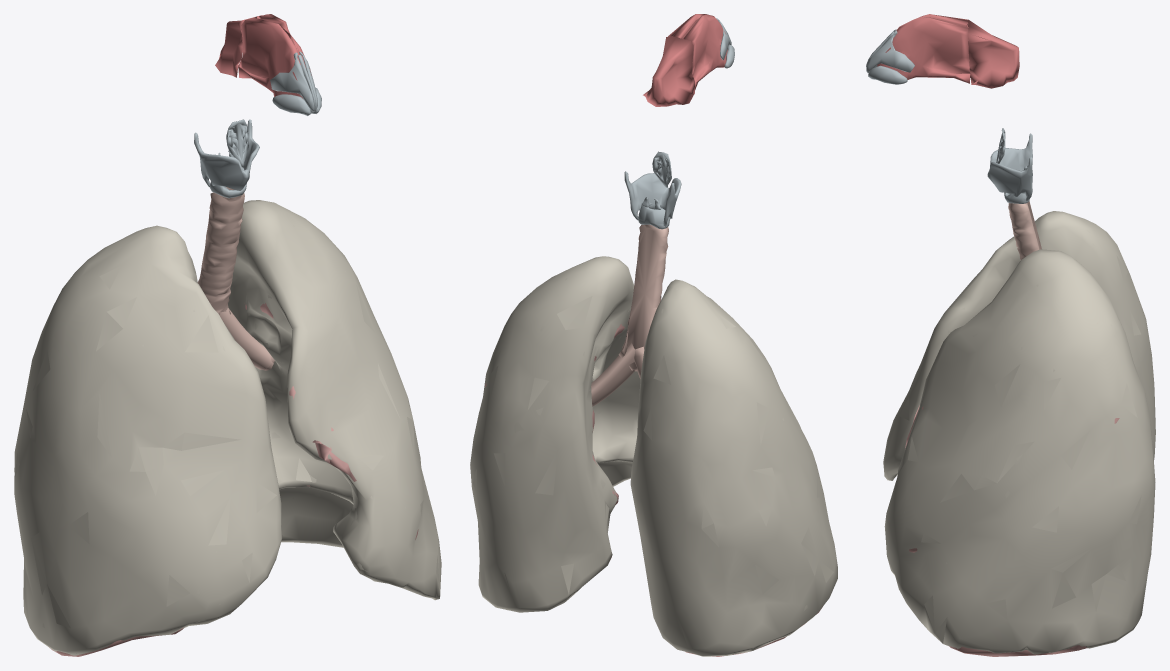
Rendered from adult_male.respiratory.LOD2.glb.
3 views of the same model, side by side, from view 1: azimuth 30°, elevation 25°; view 2: azimuth 150°, elevation 25°; view 3: azimuth 270°, elevation 25° (orthographic). The views are drawn at different scales.
Visible parts, largest first — view 1: ADULT.MALE.RESPIRATORY.PLEURA, ADULT.MALE.RESPIRATORY.TRACHEA, ADULT.MALE.RESPIRATORY.MUCOSA_OF_NASAL_CAVITY, ADULT.MALE.RESPIRATORY.THYROID_CARTILAGE, ADULT.MALE.RESPIRATORY.LEFT_MAIN_BRONCHUS, ADULT.MALE.RESPIRATORY.NASOPHARYNX, ADULT.MALE.RESPIRATORY.LATERAL_PROCESS_OF_NASAL_SEPTAL_CARTI, ADULT.MALE.RESPIRATORY.EPIGLOTTIS, ADULT.MALE.RESPIRATORY.SUPERIOR_LOBE_OF_LEFT_LUNG; view 2: ADULT.MALE.RESPIRATORY.PLEURA, ADULT.MALE.RESPIRATORY.TRACHEA, ADULT.MALE.RESPIRATORY.NASOPHARYNX, ADULT.MALE.RESPIRATORY.MUCOSA_OF_NASAL_CAVITY, ADULT.MALE.RESPIRATORY.THYROID_CARTILAGE, ADULT.MALE.RESPIRATORY.LEFT_MAIN_BRONCHUS; view 3: ADULT.MALE.RESPIRATORY.PLEURA, ADULT.MALE.RESPIRATORY.MUCOSA_OF_NASAL_CAVITY, ADULT.MALE.RESPIRATORY.NASOPHARYNX, ADULT.MALE.RESPIRATORY.THYROID_CARTILAGE, ADULT.MALE.RESPIRATORY.TRACHEA, ADULT.MALE.RESPIRATORY.LATERAL_PROCESS_OF_NASAL_SEPTAL_CARTI, ADULT.MALE.RESPIRATORY.INFERIOR_LOBE_OF_LEFT_LUNG, ADULT.MALE.RESPIRATORY.MAJOR_ALAR_CARTILAGE.L.
Part boxes in pixels (<box>): ADULT.MALE.RESPIRATORY.PLEURA: <box>14,200,441,655</box>; ADULT.MALE.RESPIRATORY.TRACHEA: <box>197,187,244,314</box>; ADULT.MALE.RESPIRATORY.MUCOSA_OF_NASAL_CAVITY: <box>238,14,311,98</box>; ADULT.MALE.RESPIRATORY.THYROID_CARTILAGE: <box>194,119,259,190</box>; ADULT.MALE.RESPIRATORY.LEFT_MAIN_BRONCHUS: <box>219,308,272,369</box>; ADULT.MALE.RESPIRATORY.NASOPHARYNX: <box>215,15,262,77</box>; ADULT.MALE.RESPIRATORY.LATERAL_PROCESS_OF_NASAL_SEPTAL_CARTI: <box>270,52,314,111</box>; ADULT.MALE.RESPIRATORY.EPIGLOTTIS: <box>226,119,248,167</box>; ADULT.MALE.RESPIRATORY.SUPERIOR_LOBE_OF_LEFT_LUNG: <box>244,303,418,539</box>; ADULT.MALE.RESPIRATORY.PLEURA: <box>470,256,837,656</box>; ADULT.MALE.RESPIRATORY.TRACHEA: <box>618,224,668,371</box>; ADULT.MALE.RESPIRATORY.NASOPHARYNX: <box>643,37,694,106</box>; ADULT.MALE.RESPIRATORY.MUCOSA_OF_NASAL_CAVITY: <box>668,14,727,89</box>; ADULT.MALE.RESPIRATORY.THYROID_CARTILAGE: <box>624,171,681,226</box>; ADULT.MALE.RESPIRATORY.LEFT_MAIN_BRONCHUS: <box>591,343,635,406</box>; ADULT.MALE.RESPIRATORY.PLEURA: <box>883,211,1155,654</box>; ADULT.MALE.RESPIRATORY.MUCOSA_OF_NASAL_CAVITY: <box>877,14,970,83</box>; ADULT.MALE.RESPIRATORY.NASOPHARYNX: <box>968,19,1019,88</box>; ADULT.MALE.RESPIRATORY.THYROID_CARTILAGE: <box>987,133,1032,201</box>; ADULT.MALE.RESPIRATORY.TRACHEA: <box>1008,201,1041,260</box>; ADULT.MALE.RESPIRATORY.LATERAL_PROCESS_OF_NASAL_SEPTAL_CARTI: <box>866,30,914,73</box>; ADULT.MALE.RESPIRATORY.INFERIOR_LOBE_OF_LEFT_LUNG: <box>949,645,1087,656</box>; ADULT.MALE.RESPIRATORY.MAJOR_ALAR_CARTILAGE.L: <box>868,65,907,84</box>.
Bounding box in the file's own units: 0.2634 × 0.4308 × 0.2002.
